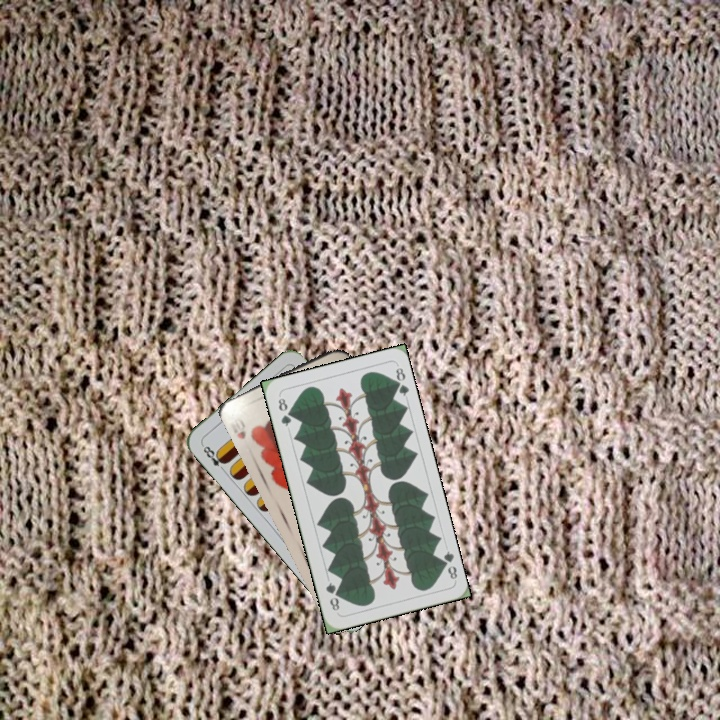E8: (198, 440, 229, 475)
G8: (436, 547, 460, 582), (274, 394, 294, 429)
H10: (226, 413, 249, 442)
